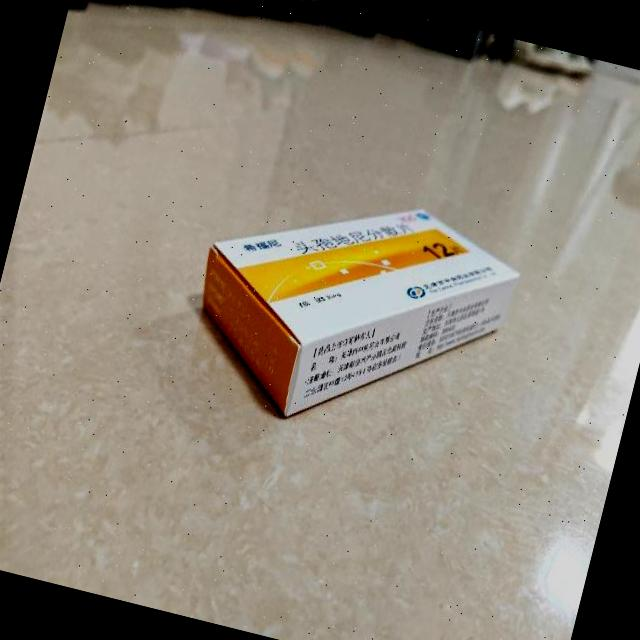box: (175, 160, 530, 466)
